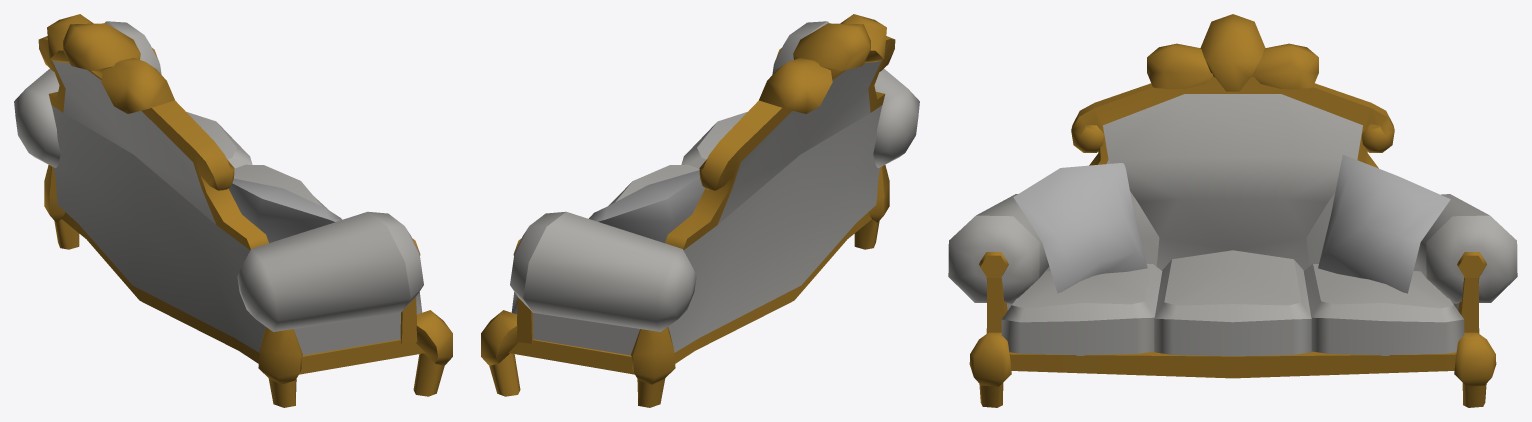
File: couch_a.fbx
3 renders of one model, left to right at view 1: azimuth 30°, elevation 25°; view 2: azimuth 150°, elevation 25°; view 3: azimuth 270°, elevation 25°, orthographic. The views are drawn at different scales.
Parts seen in each view (by area): view 1: couch_a_base, couch_a_metal, pillow_l; view 2: couch_a_base, couch_a_metal, pillow_r; view 3: couch_a_base, couch_a_metal, pillow_l, pillow_r.
Boxes of the visible parts, <box> form: couch_a_base: <box>14,21,423,355</box>; couch_a_metal: <box>38,14,452,407</box>; pillow_l: <box>228,178,342,243</box>; couch_a_base: <box>510,21,919,355</box>; couch_a_metal: <box>481,14,895,407</box>; pillow_r: <box>589,170,705,243</box>; couch_a_base: <box>948,94,1517,356</box>; couch_a_metal: <box>969,14,1496,407</box>; pillow_l: <box>1013,163,1147,293</box>; pillow_r: <box>1318,154,1450,293</box>.
Size of the model in its own units: 130 by 157 by 277.
